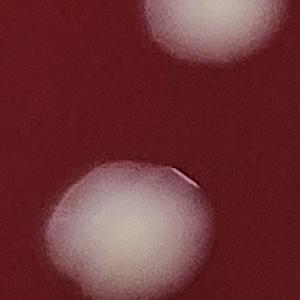colony: (36, 152, 223, 300), (131, 0, 297, 70)
